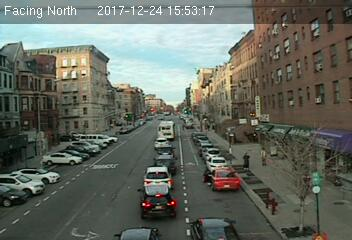bus: (157, 120, 175, 139)
car: (137, 184, 177, 218), (203, 168, 242, 193), (142, 165, 172, 188), (152, 154, 179, 171), (155, 146, 176, 157), (152, 137, 170, 148)
